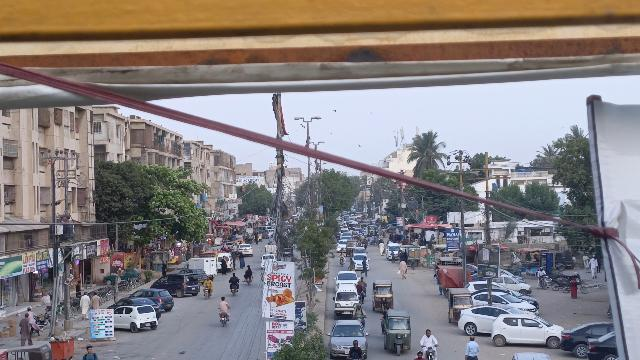Bike: (420, 344, 439, 360), (217, 312, 230, 329), (201, 286, 212, 301), (228, 282, 239, 297), (244, 273, 253, 288)
Car: (489, 312, 565, 349), (558, 319, 613, 358), (325, 318, 371, 360), (456, 305, 518, 336), (472, 291, 537, 314), (114, 304, 160, 332), (149, 273, 201, 297), (130, 287, 175, 313), (108, 297, 162, 317), (584, 330, 616, 360)
Person: (19, 313, 34, 347), (77, 291, 91, 321), (418, 327, 439, 347), (465, 334, 480, 360), (397, 258, 410, 282), (216, 294, 232, 313), (81, 344, 99, 360), (353, 303, 366, 321), (90, 291, 102, 310), (227, 271, 240, 284), (243, 263, 256, 275), (203, 274, 214, 288)
Rickshaw: (383, 309, 413, 357), (446, 286, 470, 324), (371, 279, 395, 314)
Truck: (182, 256, 219, 281)
Van: (332, 283, 360, 321)
